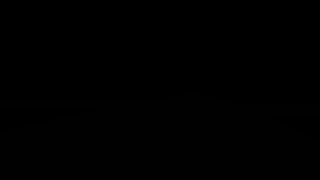go_ahead: (274, 20, 320, 54)
